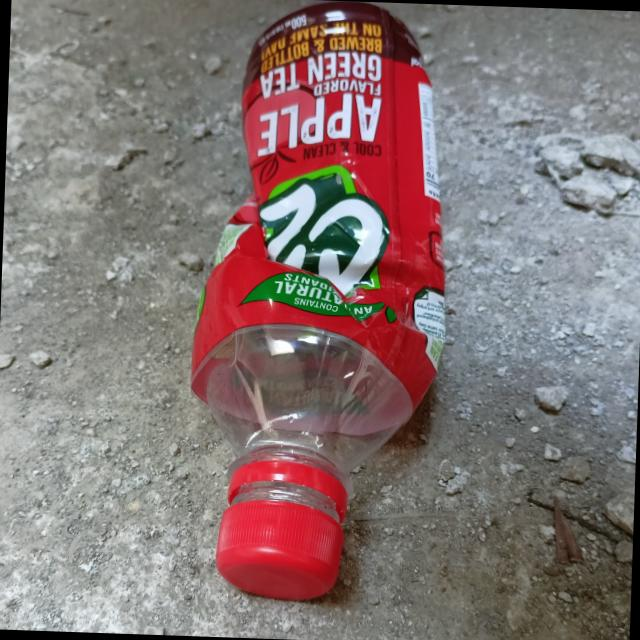Bottle: (191, 1, 445, 599)
